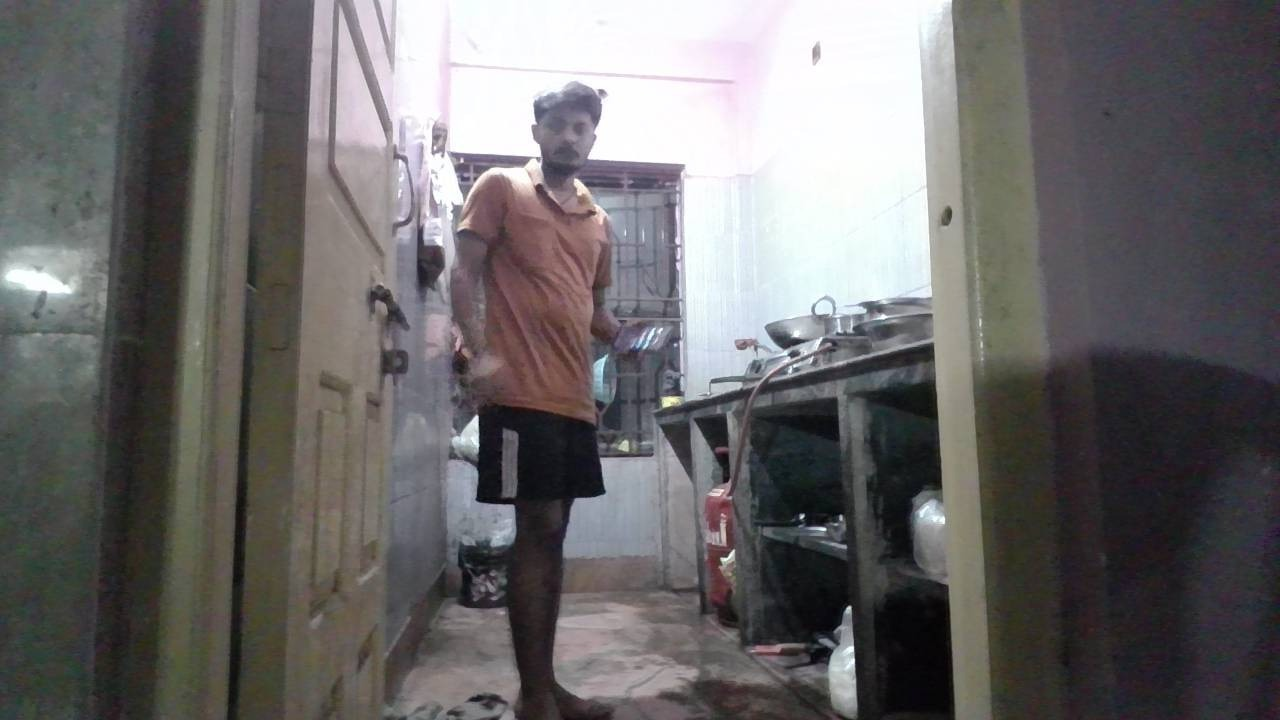red_box: (505, 376, 584, 418)
